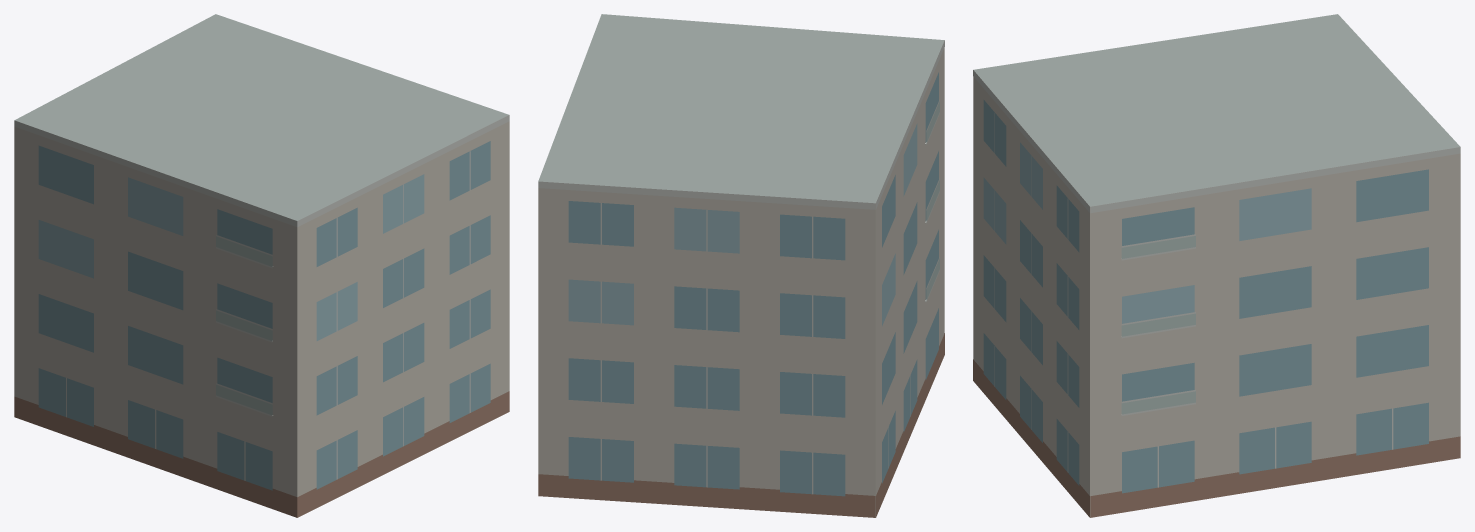
Rendered from survey-upis-32865635.glb.
3 views of the same model, side by side, from view 1: azimuth 30°, elevation 25°; view 2: azimuth 150°, elevation 25°; view 3: azimuth 270°, elevation 25° (orthographic). The views are drawn at different scales.
Parts seen in each view (by area): view 1: survey-upis-32865635.tmp; view 2: survey-upis-32865635.tmp; view 3: survey-upis-32865635.tmp.
Part boxes in pixels (x1,y1,x2,y2): survey-upis-32865635.tmp: (14,14,509,517); survey-upis-32865635.tmp: (538,14,944,517); survey-upis-32865635.tmp: (973,14,1460,517).
Bounding box in the file's own units: 15.5 × 11.65 × 16.56.
